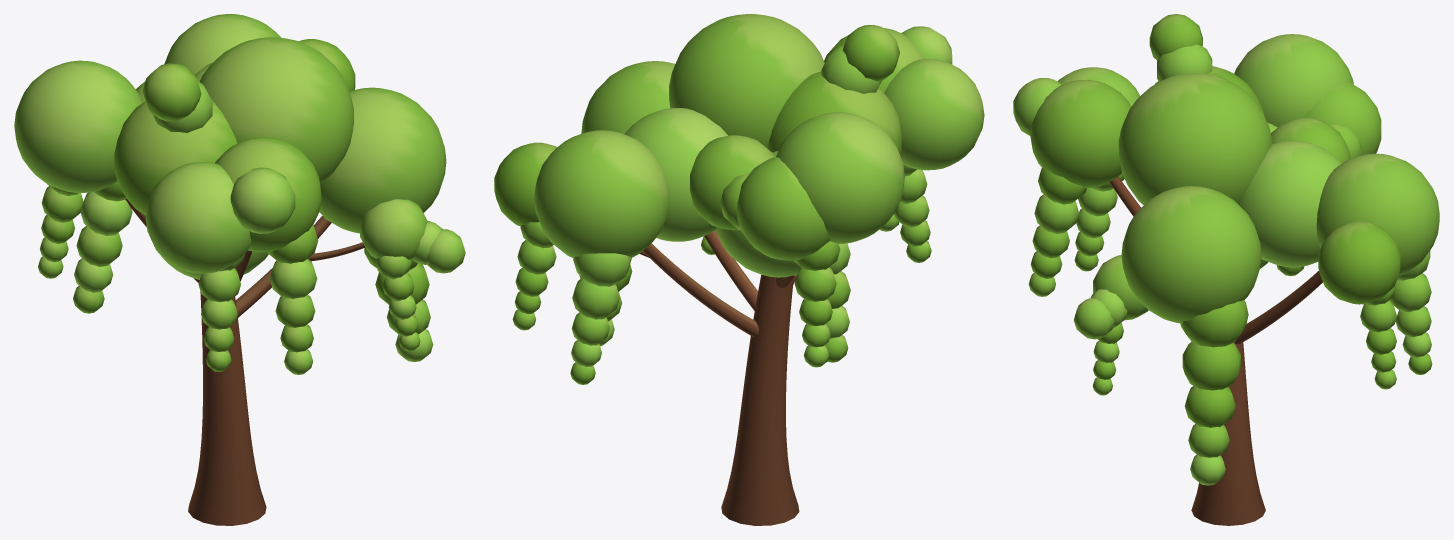
File: weeping-tree-114.obj
3 views of the same model, side by side, from view 1: azimuth 30°, elevation 25°; view 2: azimuth 150°, elevation 25°; view 3: azimuth 270°, elevation 25° (orthographic). The views are drawn at different scales.
Parts seen in each view (by area): view 1: tree; view 2: tree; view 3: tree.
Boxes of the visible parts, x1=… form: tree: x1=14, y1=14, x2=465, y2=525; tree: x1=494, y1=14, x2=984, y2=525; tree: x1=1013, y1=14, x2=1439, y2=525.
Size of the model in its own units: 294 by 375 by 318.
